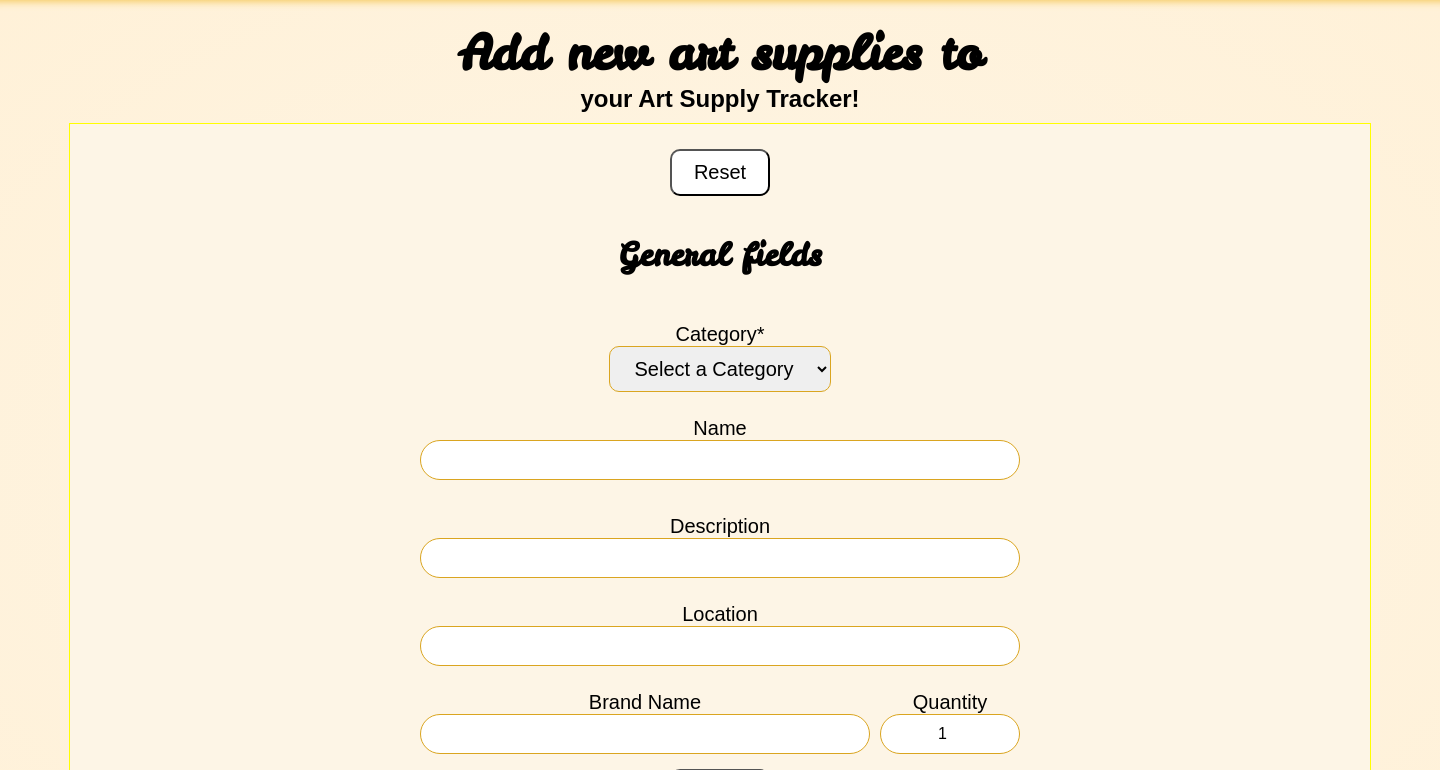
it: filling out and resetting clears the form
Type "Testing" into the field labelled "Name" at (720, 460), box x1=420 y1=440 x2=1020 y2=480
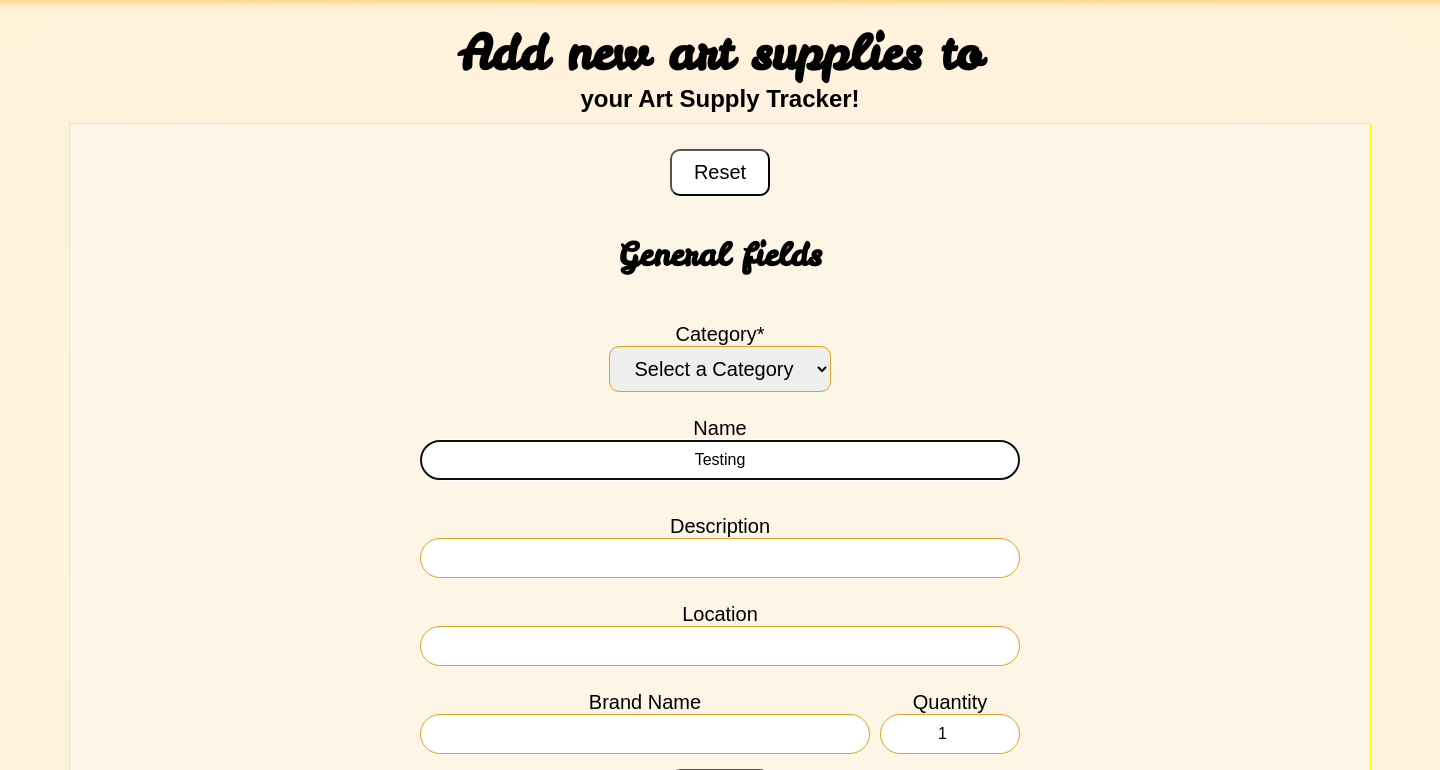
// category fields
Select "Canvas" in the dropdown with id "Category" at (720, 369), box x1=609 y1=346 x2=831 y2=392
(page scrolled)
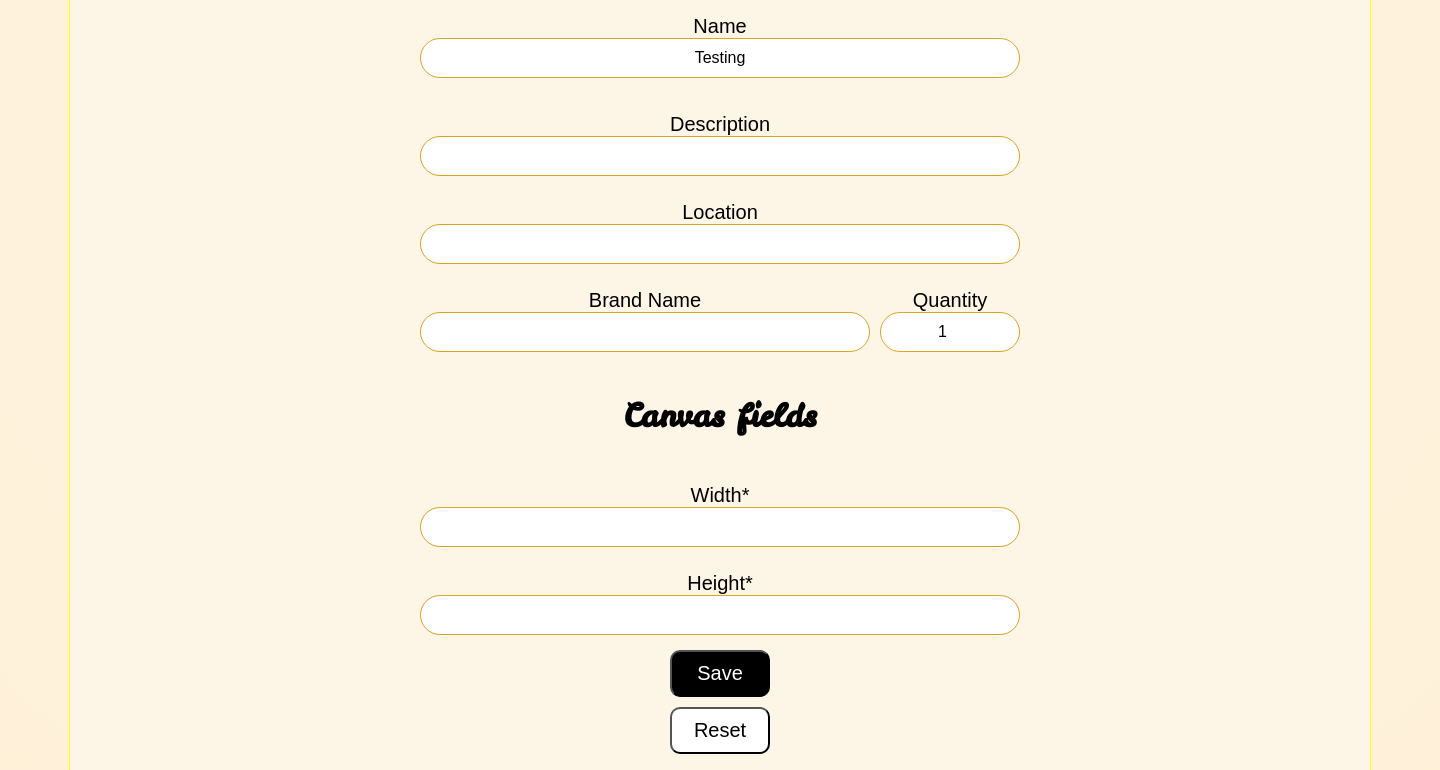
Type "11" into the number field labelled "Width*" at (720, 527), box x1=420 y1=507 x2=1020 y2=547
(page scrolled)
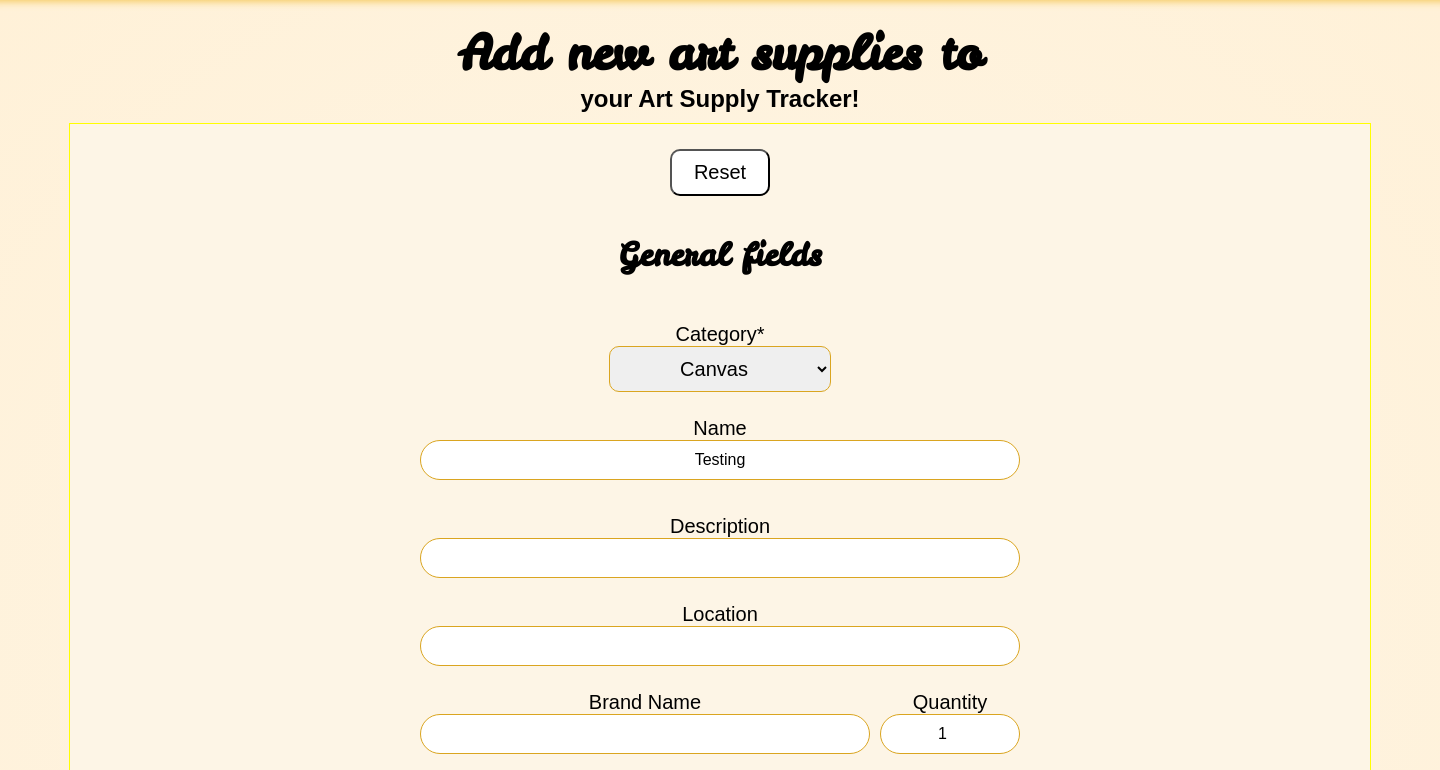
// clears the form
Click the button "Reset" at (720, 172), box x1=670 y1=149 x2=770 y2=196
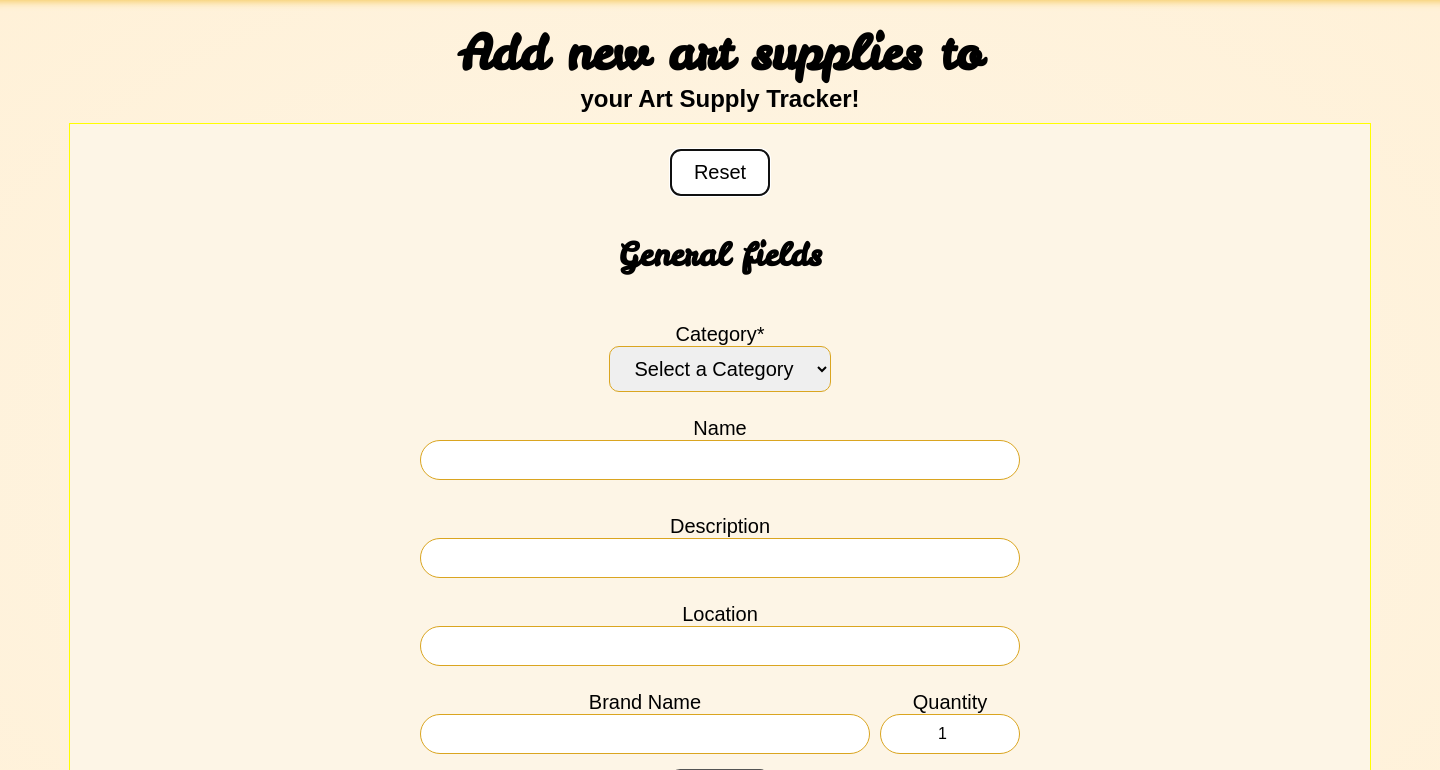
Now the field labelled "Name" is empty, box x1=420 y1=440 x2=1020 y2=480
